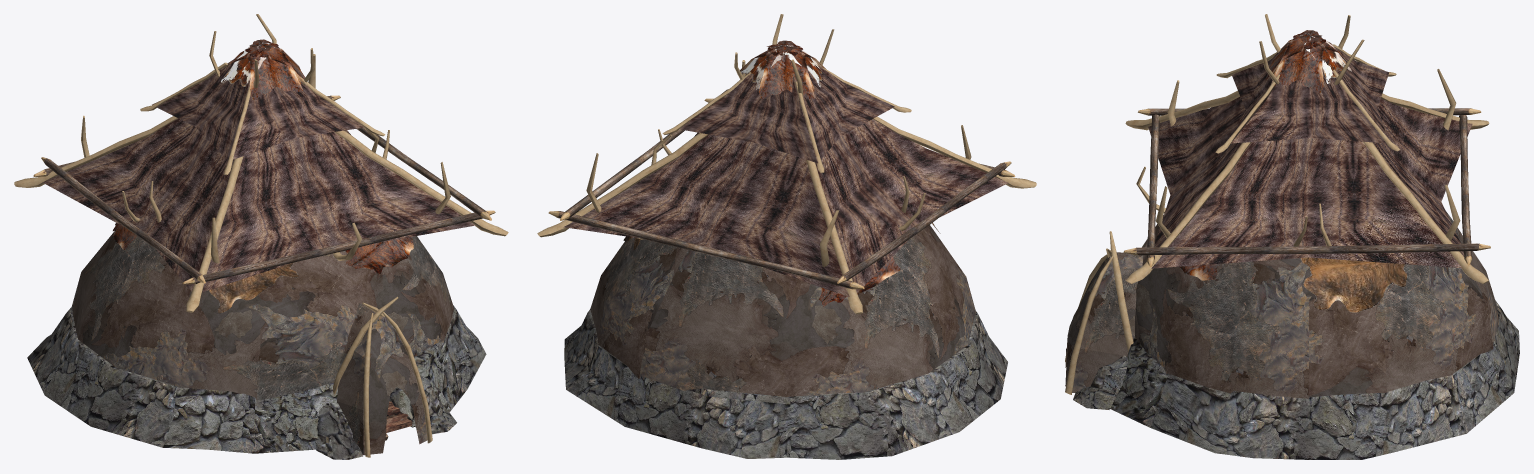
The model's file is boneskin_hut3.FBX.
The picture shows the model from 3 angles, left to right: view 1: azimuth 30°, elevation 25°; view 2: azimuth 150°, elevation 25°; view 3: azimuth 270°, elevation 25°; orthographic projection. The views are drawn at different scales.
Visible parts, largest first — view 1: boneskin_hut3; view 2: boneskin_hut3; view 3: boneskin_hut3.
Part boxes in pixels (<box>): boneskin_hut3: <box>14,14,508,459</box>; boneskin_hut3: <box>537,14,1036,459</box>; boneskin_hut3: <box>1065,14,1519,459</box>.
Bounding box in the file's own units: 265 × 218 × 262.
